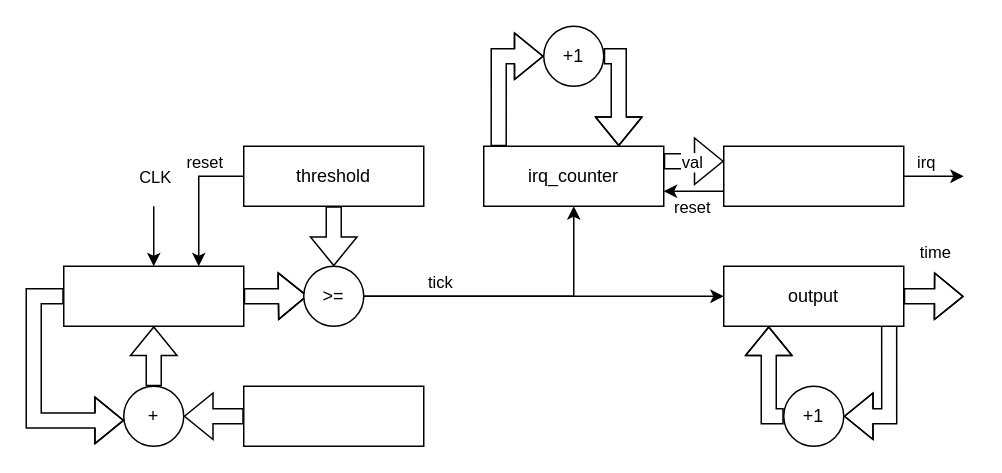
Image size: 1002x473. Some labels were removed from this diagram. Each missing label, with the centre of its shape:
"counter" belongs at (x=153, y=295).
"increment" belongs at (x=333, y=415).
"irq_threshold" belongs at (x=813, y=175).
